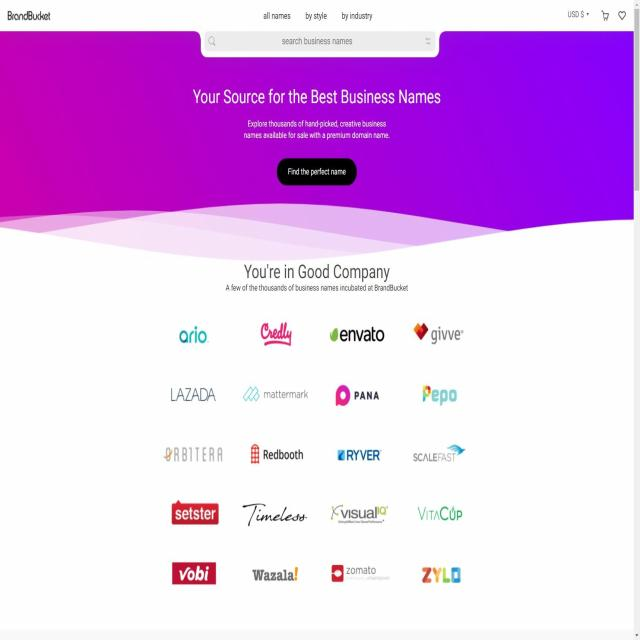button: (277, 157, 357, 186), (600, 8, 610, 22), (618, 9, 626, 22)
input: (204, 31, 436, 52)
select: (566, 9, 590, 20)
